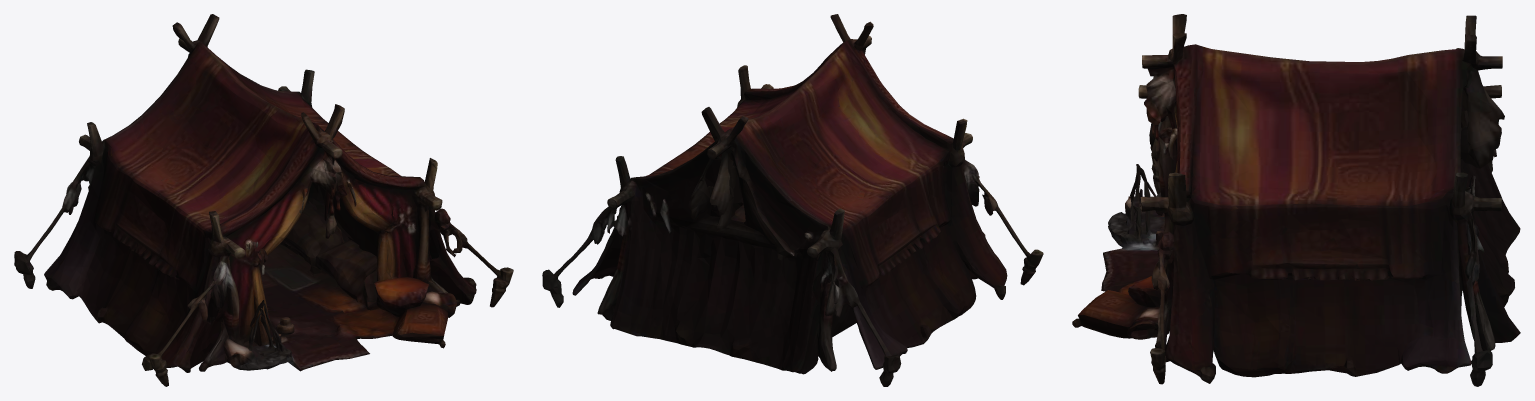
The model's file is tent.glb.
3 renders of one model, left to right at view 1: azimuth 30°, elevation 25°; view 2: azimuth 150°, elevation 25°; view 3: azimuth 270°, elevation 25°, orthographic. The views are drawn at different scales.
Visible parts, largest first — view 1: world; view 2: world; view 3: world.
Boxes of the visible parts, box(x1,y1,x2,y2) form: world: box(14, 14, 513, 386); world: box(542, 14, 1043, 386); world: box(1072, 14, 1520, 386).
Size of the model in its own units: 0.9938 by 0.6132 by 0.9174.
1 material, 1 textured.
